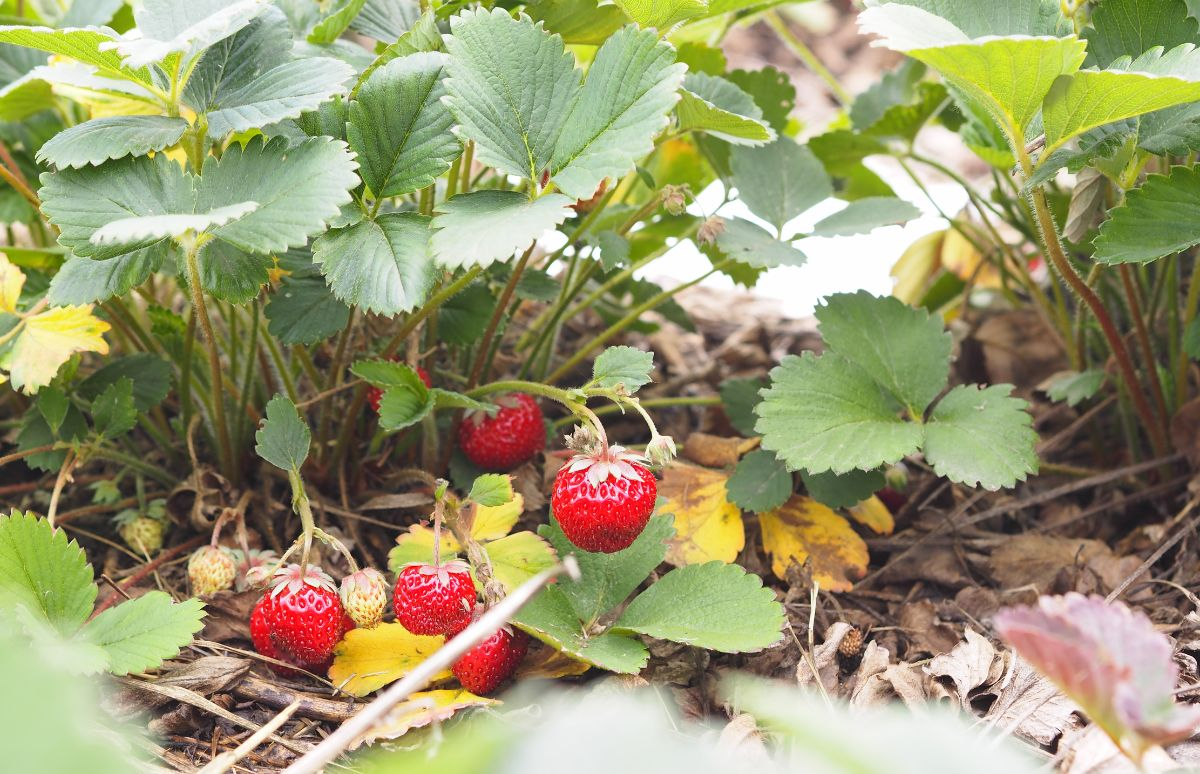ripe: (552, 454, 658, 554), (458, 392, 546, 469)
